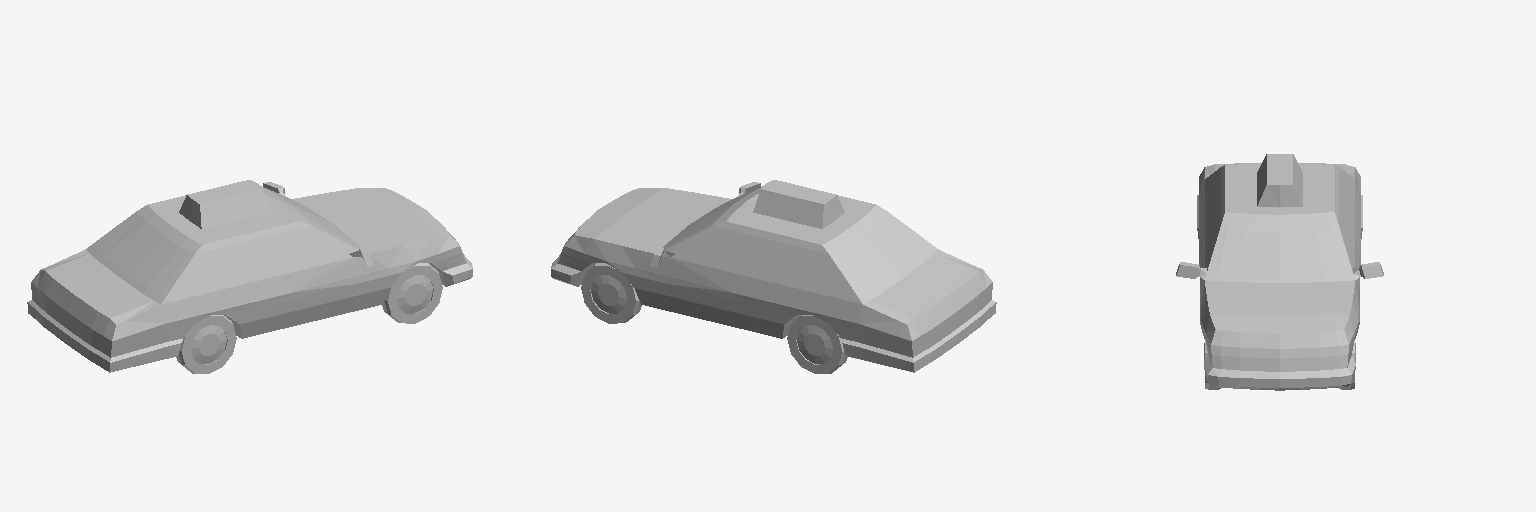
File: taxi.obj
The picture shows the model from 3 angles: view 1: azimuth 30°, elevation 25°; view 2: azimuth 150°, elevation 25°; view 3: azimuth 270°, elevation 25°; orthographic projection.
Parts seen in each view (by area): view 1: 1399_Taxi.001; view 2: 1399_Taxi.001; view 3: 1399_Taxi.001.
Part boxes in pixels (bbox=[...]): 1399_Taxi.001: bbox=[27, 180, 472, 373]; 1399_Taxi.001: bbox=[551, 180, 996, 373]; 1399_Taxi.001: bbox=[1176, 154, 1383, 390].
Size of the model in its own units: 5.55 by 1.99 by 2.61.